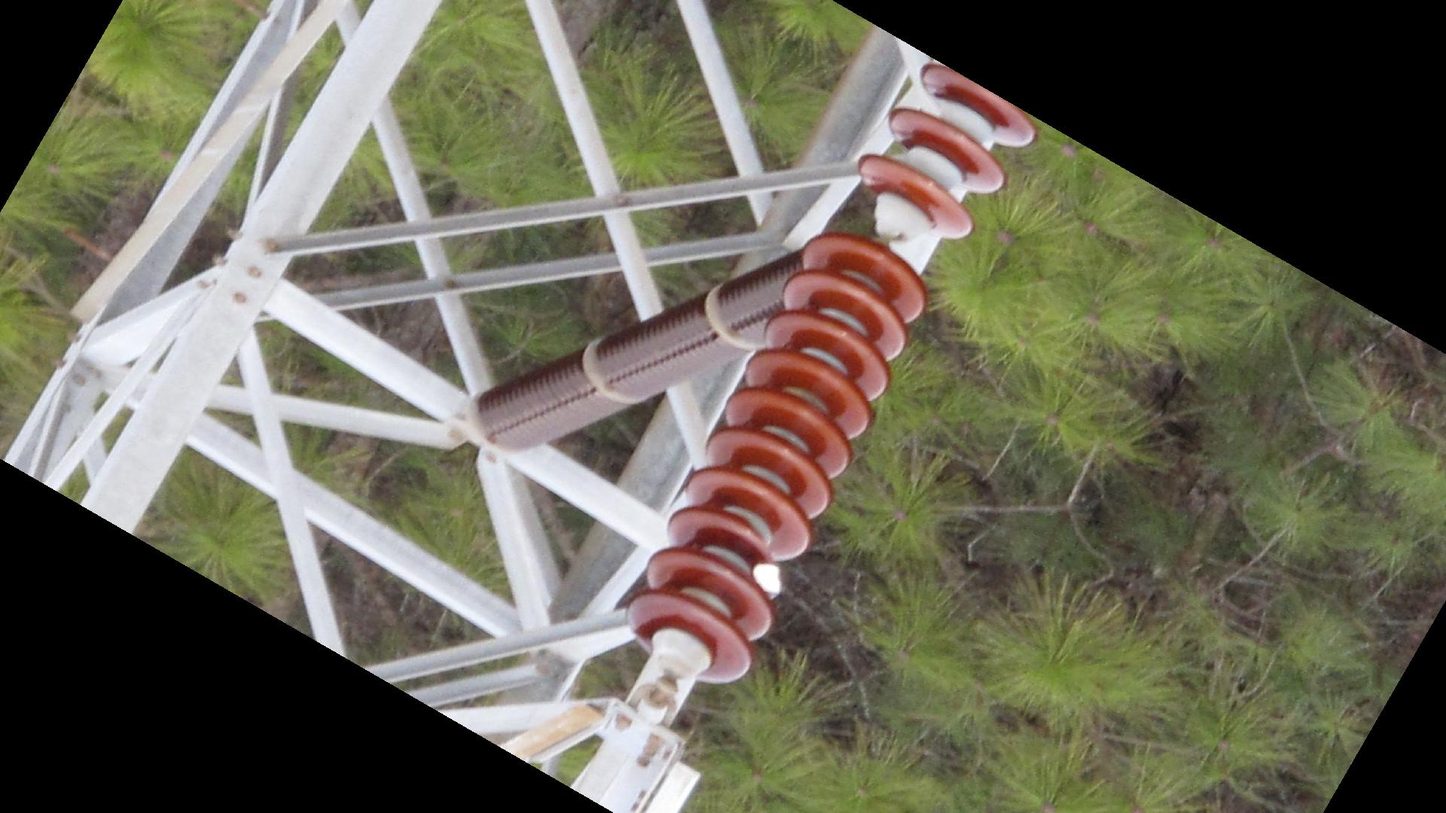insulator: (621, 230, 932, 690), (468, 244, 801, 456), (850, 56, 1041, 245)
insulator_breakage: (740, 544, 787, 610)
